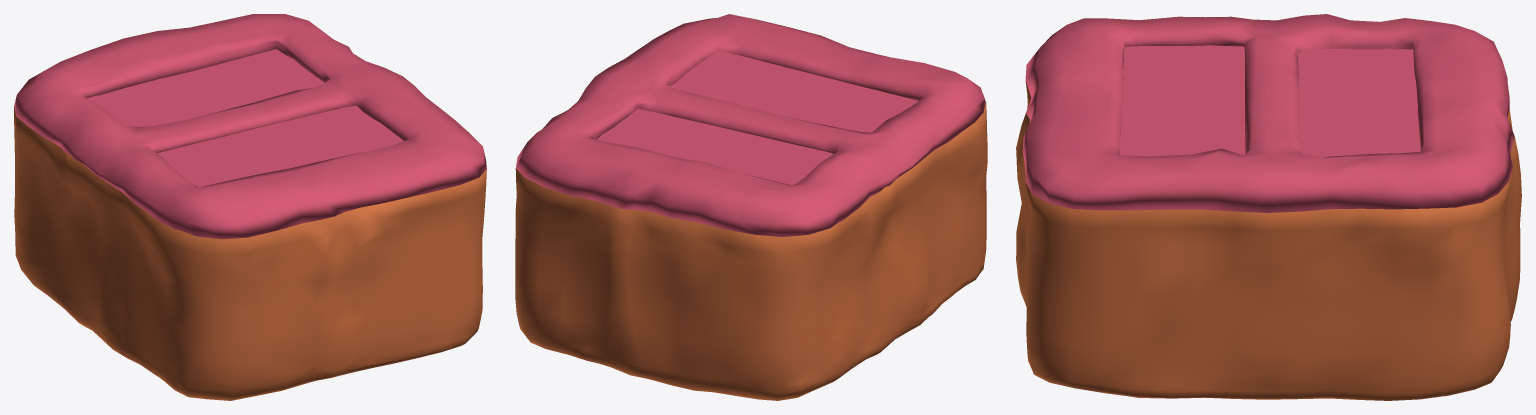
The model's file is Cargo_CTB_Full_Size.fbx.
The picture shows the model from 3 angles, left to right: view 1: azimuth 30°, elevation 25°; view 2: azimuth 150°, elevation 25°; view 3: azimuth 270°, elevation 25°; orthographic projection. The views are drawn at different scales.
Parts seen in each view (by area): view 1: Cargo_CTB_Full_Size, Cargo_CTB_Full_Size.001; view 2: Cargo_CTB_Full_Size, Cargo_CTB_Full_Size.001; view 3: Cargo_CTB_Full_Size, Cargo_CTB_Full_Size.001.
Part boxes in pixels (x1=…): Cargo_CTB_Full_Size: x1=14, y1=106, x2=486, y2=400; Cargo_CTB_Full_Size.001: x1=14, y1=14, x2=486, y2=239; Cargo_CTB_Full_Size: x1=515, y1=102, x2=987, y2=400; Cargo_CTB_Full_Size.001: x1=516, y1=14, x2=985, y2=236; Cargo_CTB_Full_Size: x1=1016, y1=79, x2=1521, y2=400; Cargo_CTB_Full_Size.001: x1=1022, y1=14, x2=1514, y2=212.
Bounding box in the file's own units: 439 × 270 × 525.
